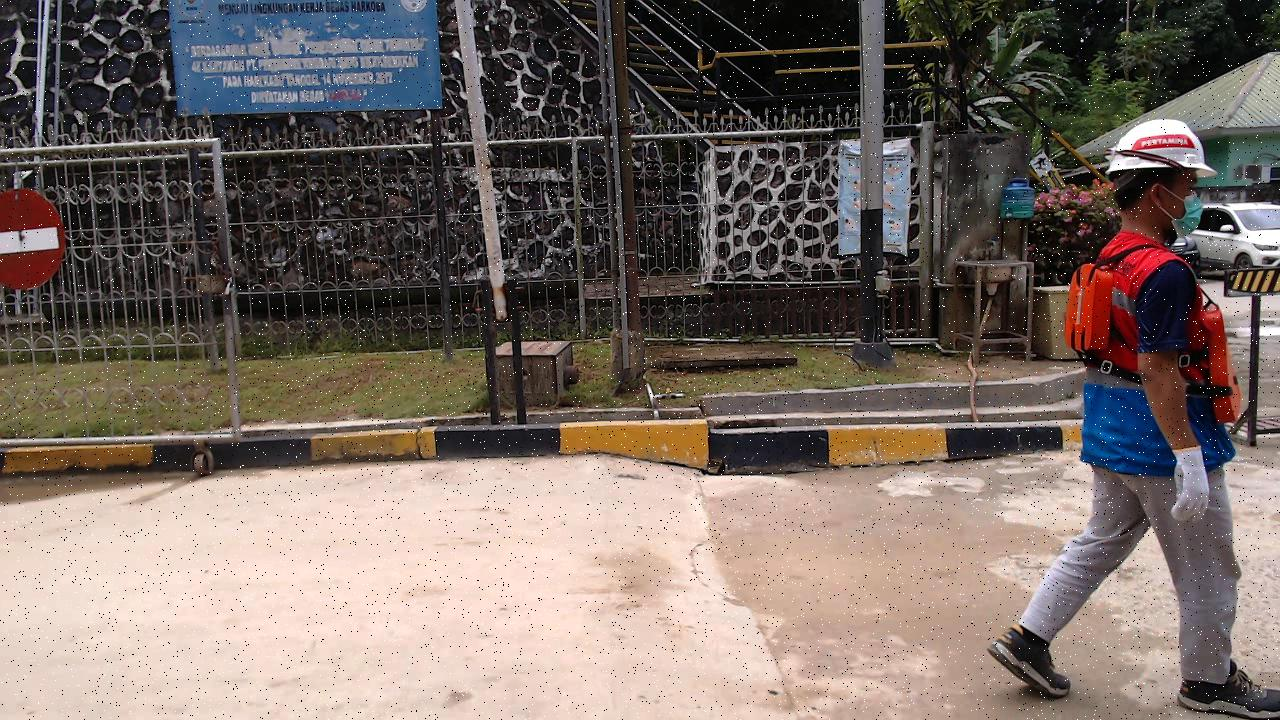gloves: (1168, 443, 1218, 527)
helmet: (1104, 117, 1221, 181)
mask: (1168, 189, 1205, 240)
safety-shoes: (984, 621, 1073, 701), (1171, 659, 1279, 719)
vest: (1065, 262, 1245, 430)
